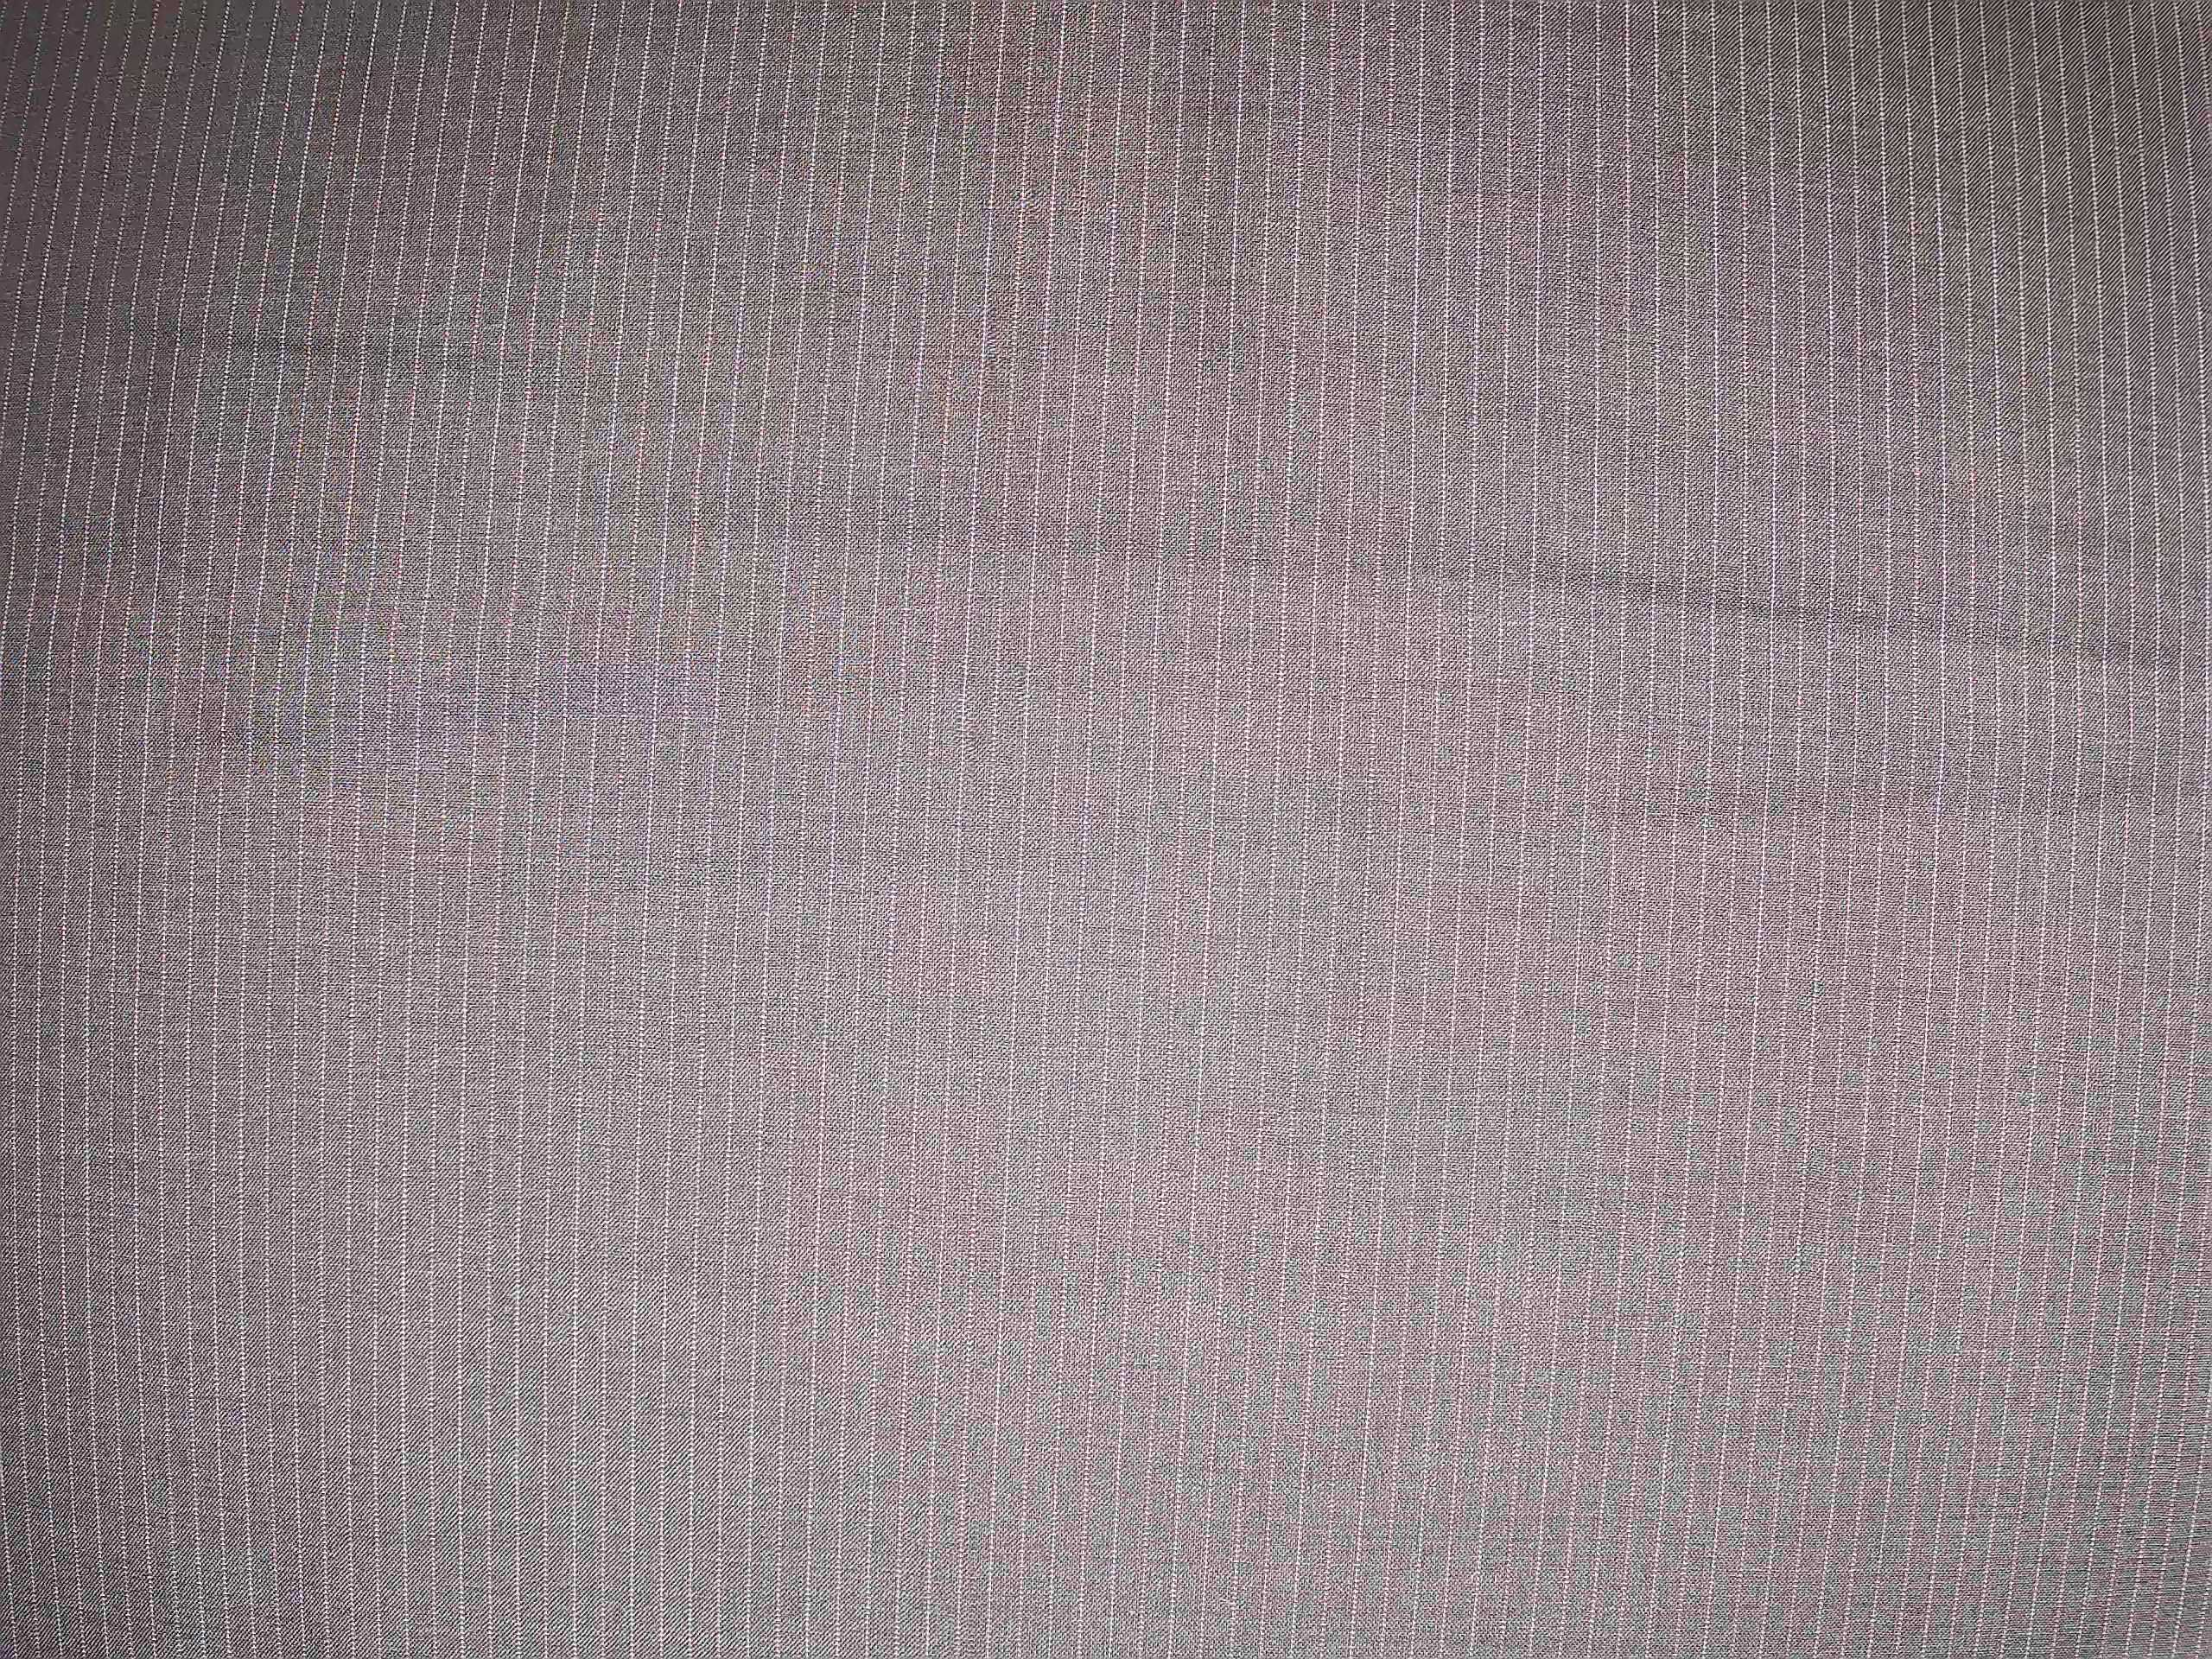others: (961, 291, 1019, 434)
